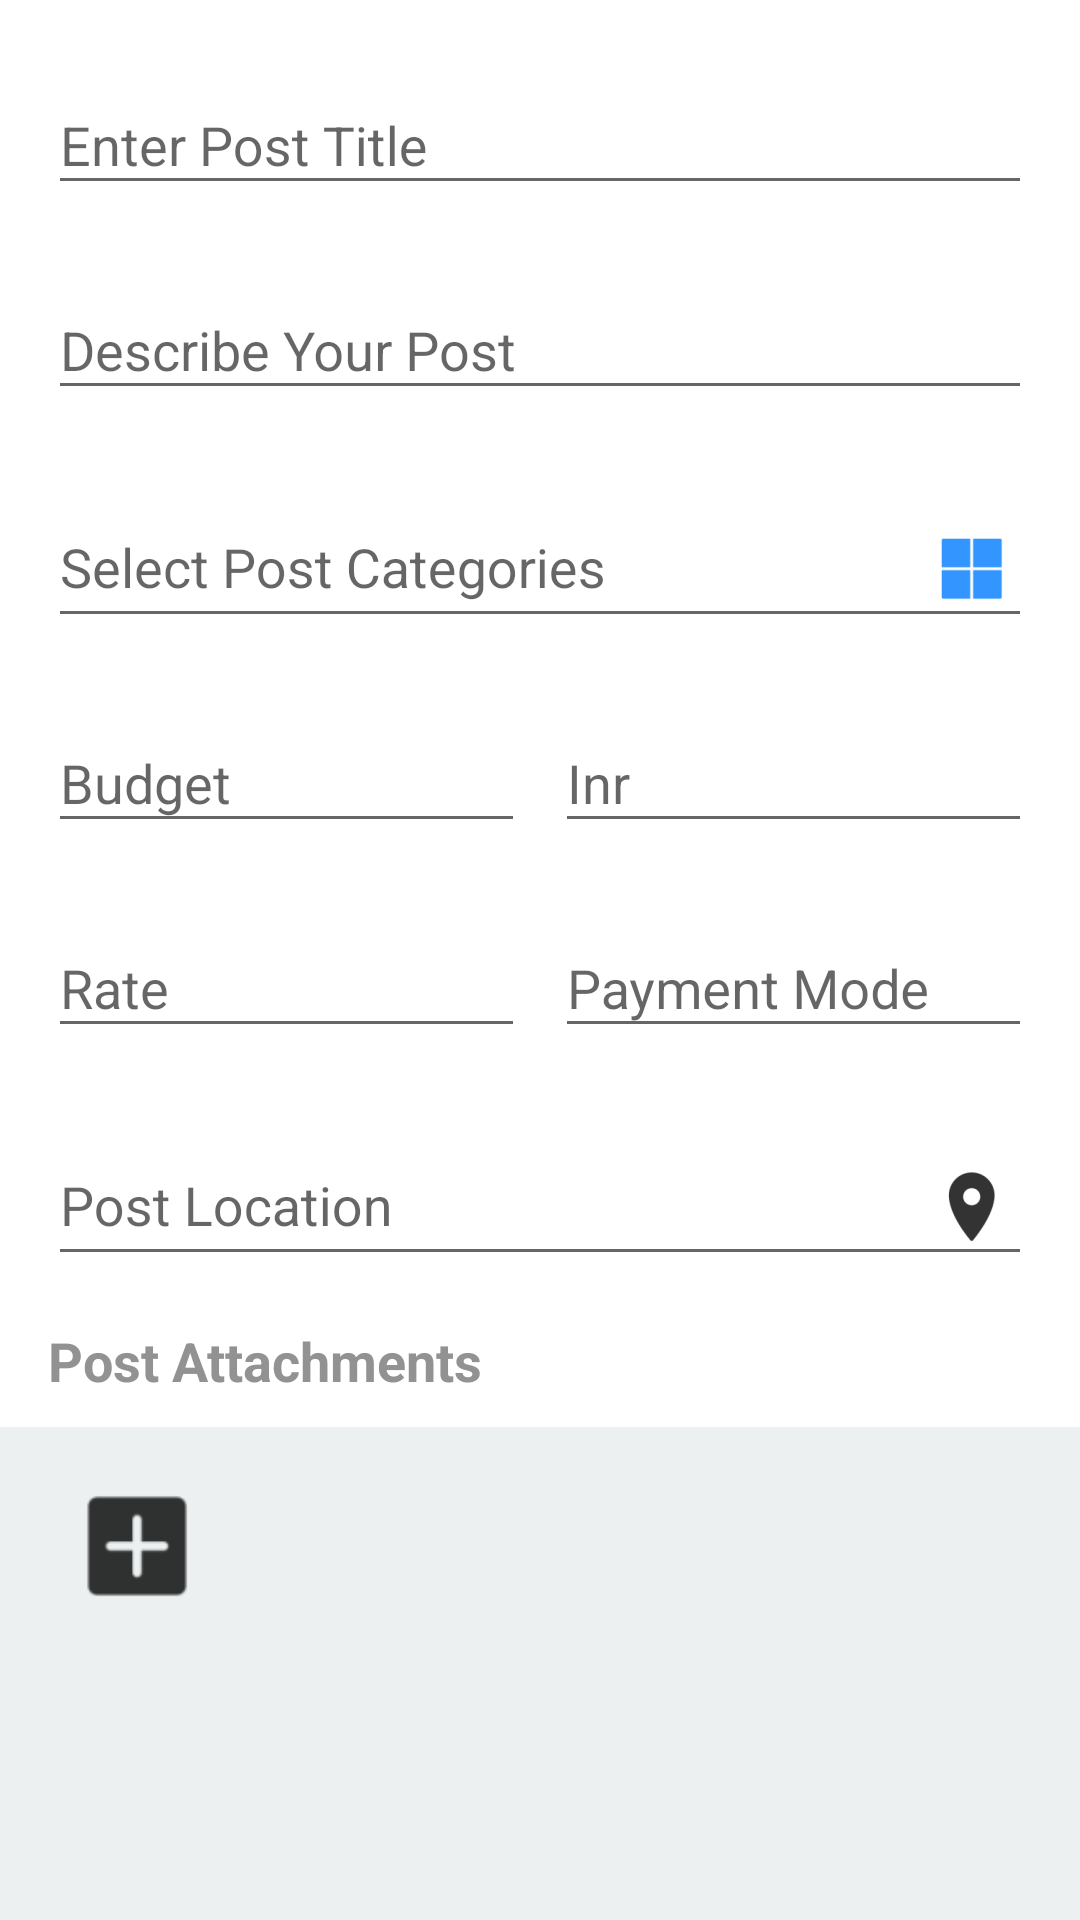

Where icons sit on this 1080px×1920px app screen, as (x1, y1, x2, y2):
add: (87, 1496, 187, 1596)
